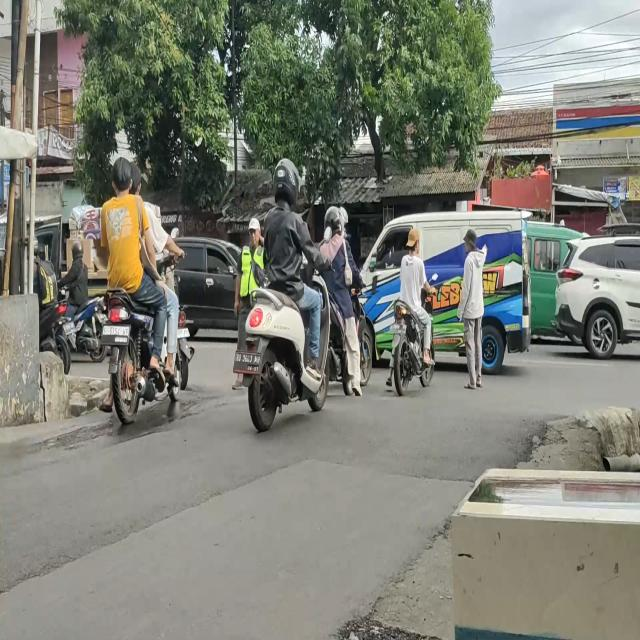helmet: (275, 158, 297, 194), (326, 205, 343, 233), (72, 241, 84, 260)
no-helmet: (114, 158, 129, 194), (129, 159, 142, 194), (409, 228, 420, 252)
